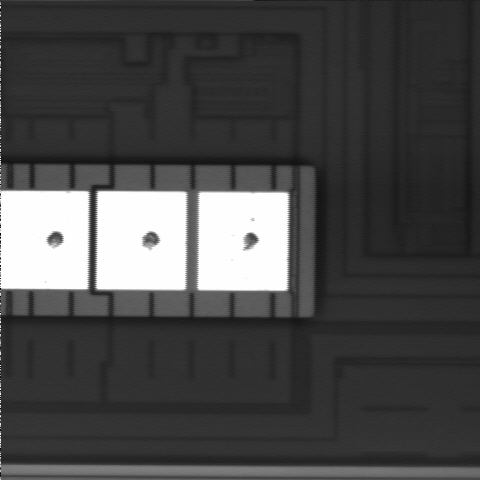pad: (198, 192, 288, 291), (97, 191, 186, 290)
